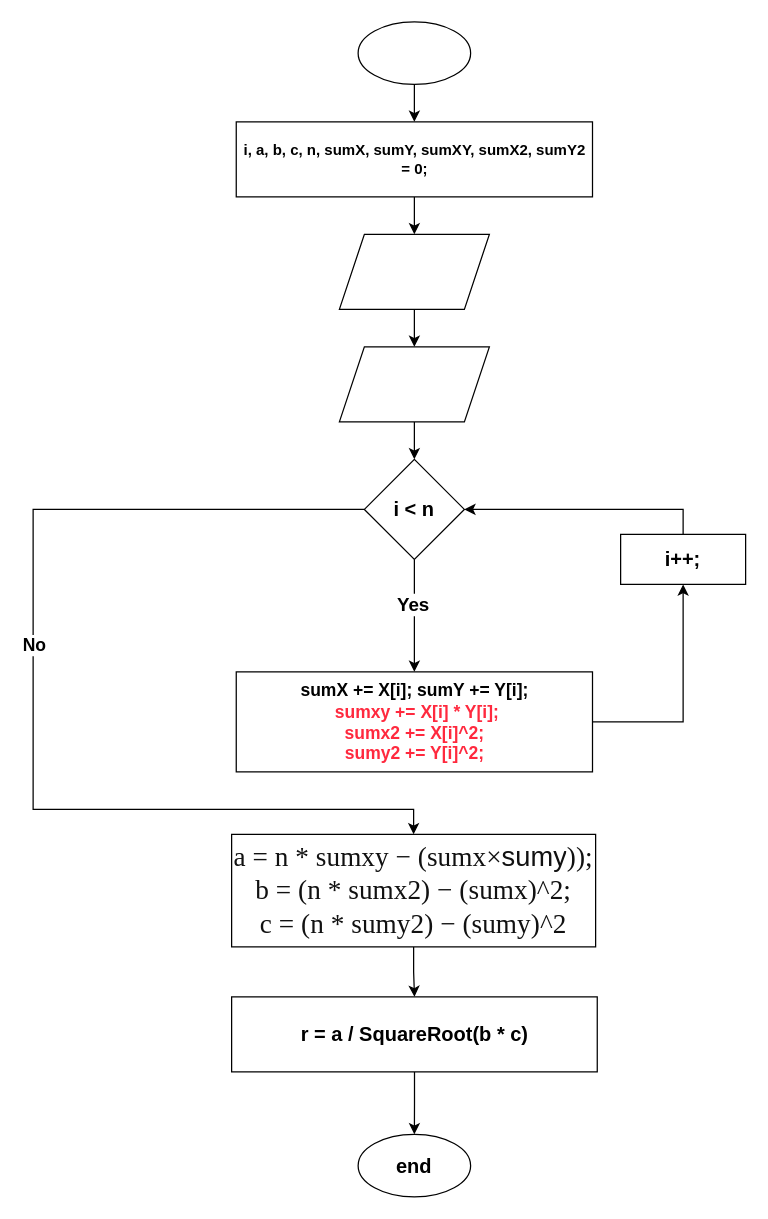
This 768x1219 diagram has some shape labels left out. Each missing label, with the centre of its shape:
"Read (x,y)" goes at (x=413, y=384).
"Read n" goes at (x=413, y=271).
"start" goes at (x=414, y=52).
